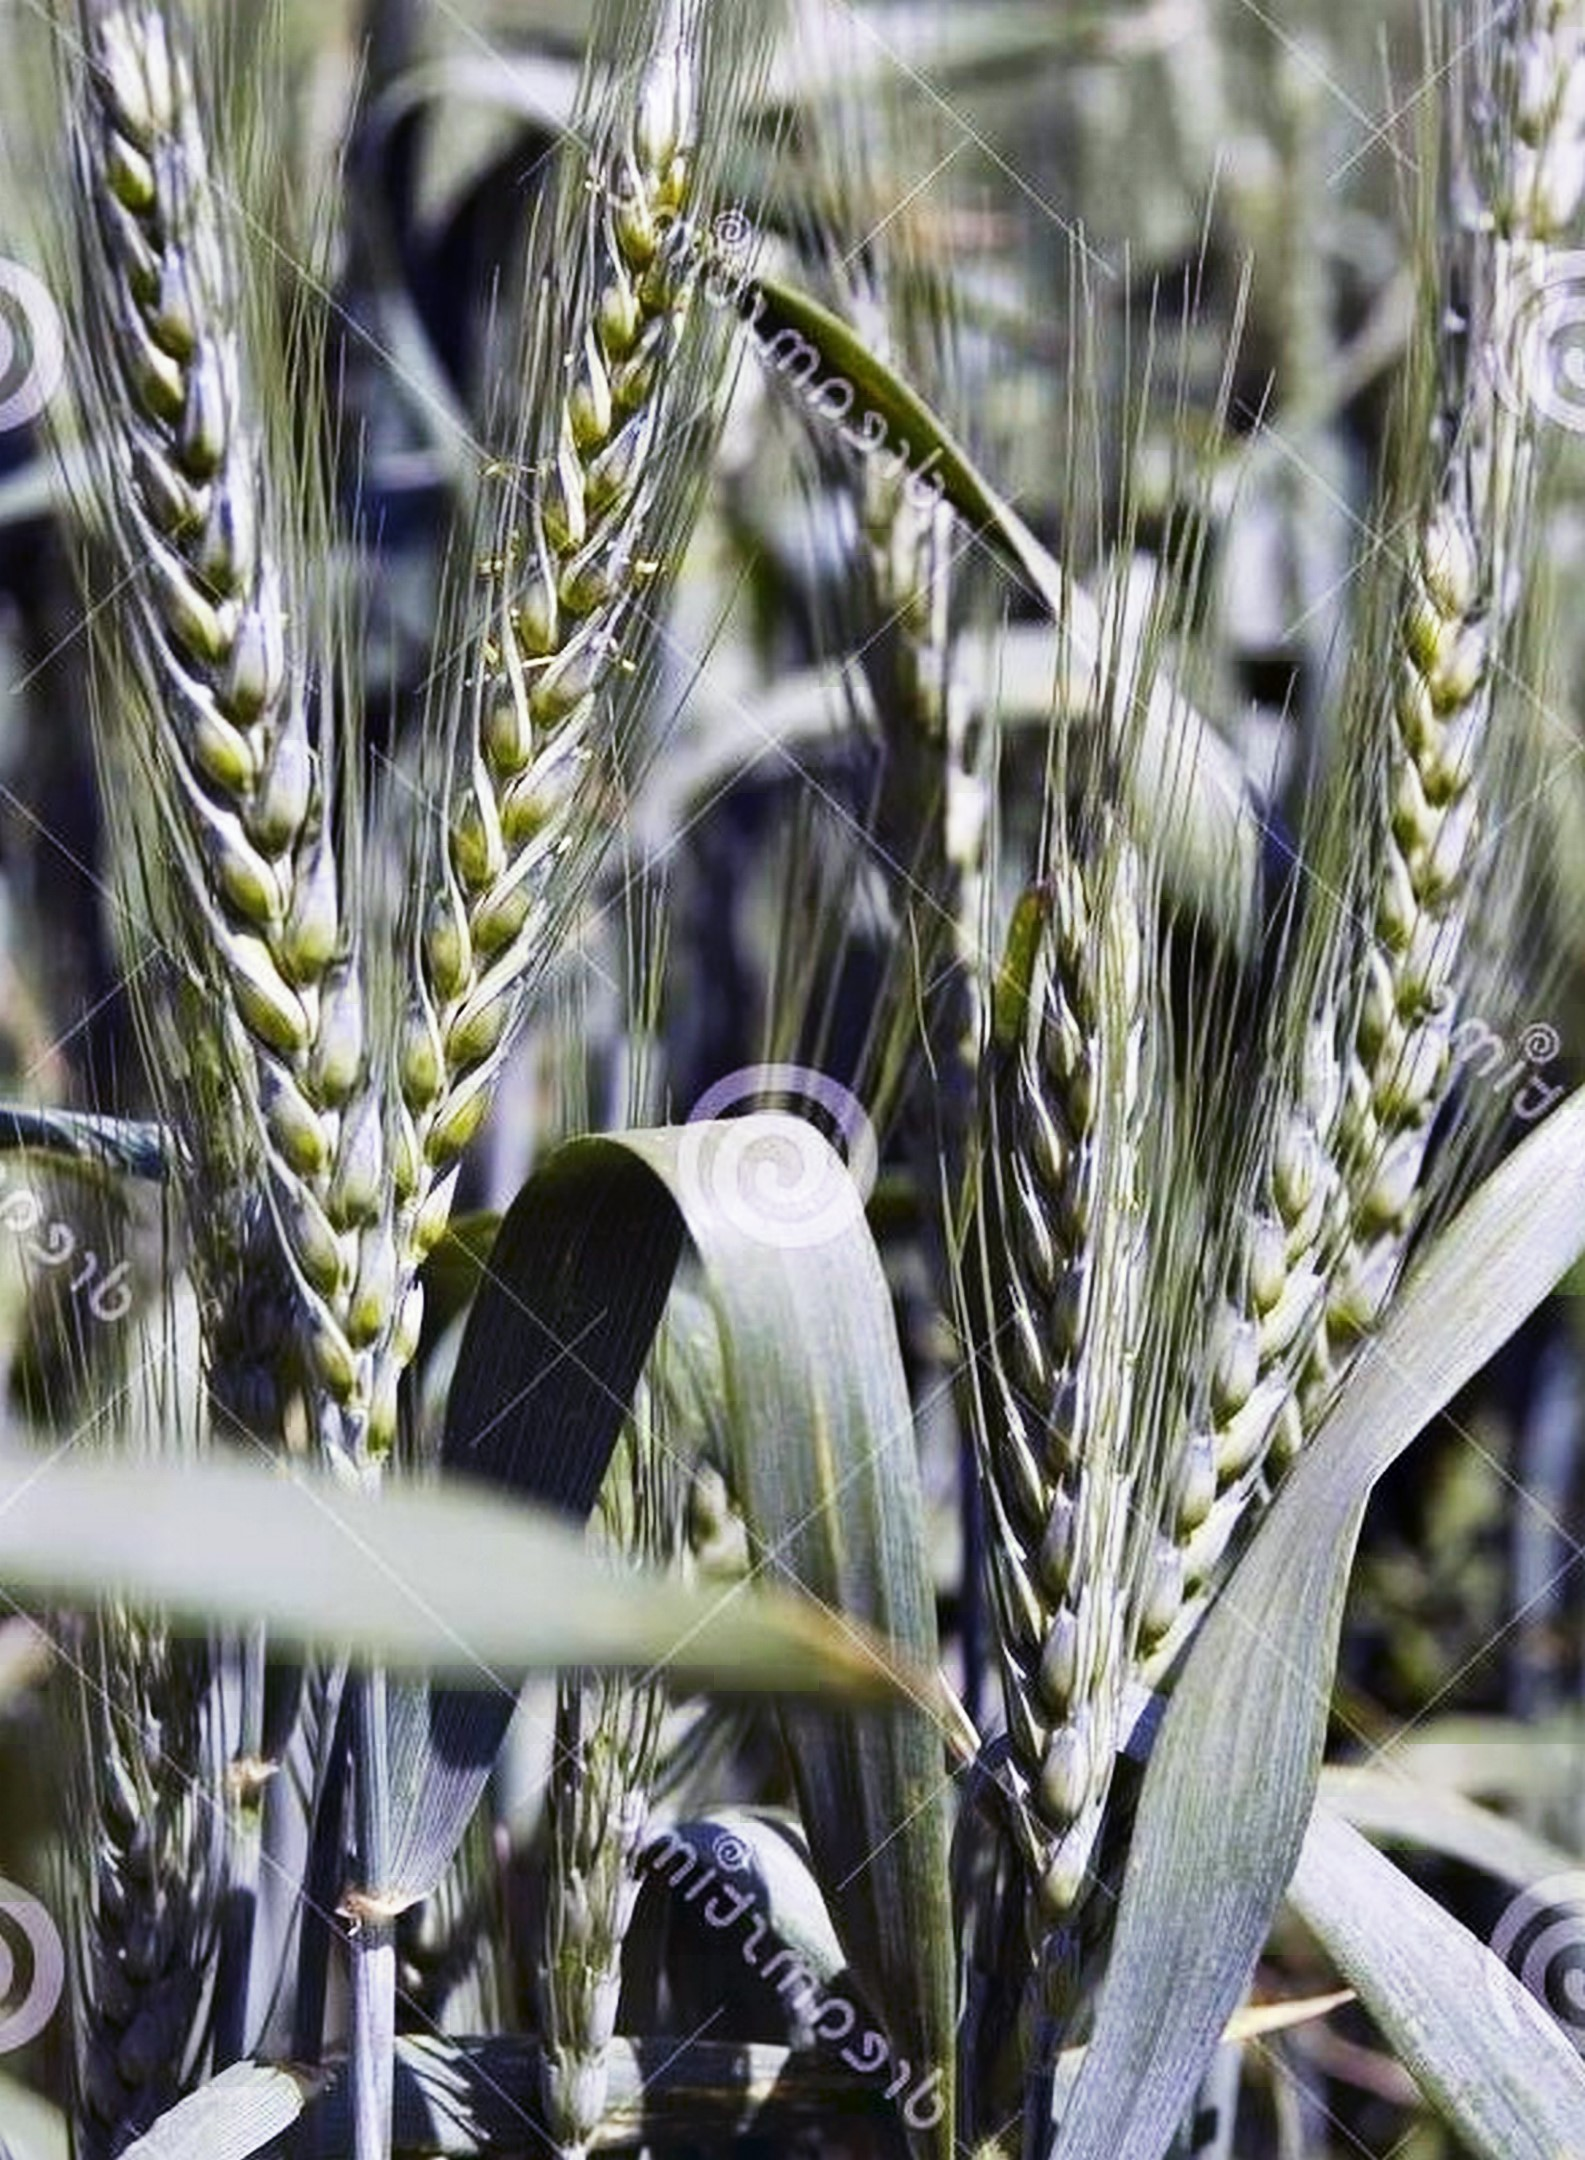Healthy Wheat: (42, 5, 384, 1291), (919, 823, 1154, 1825)
